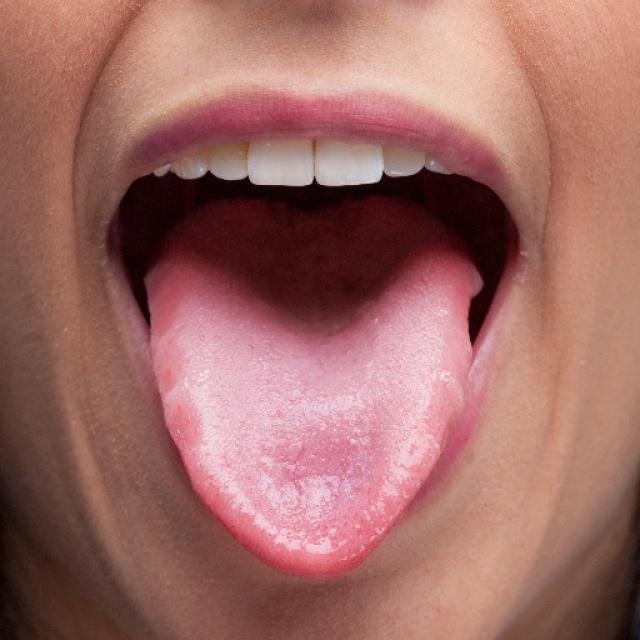processing_area: (147, 219, 478, 573)
